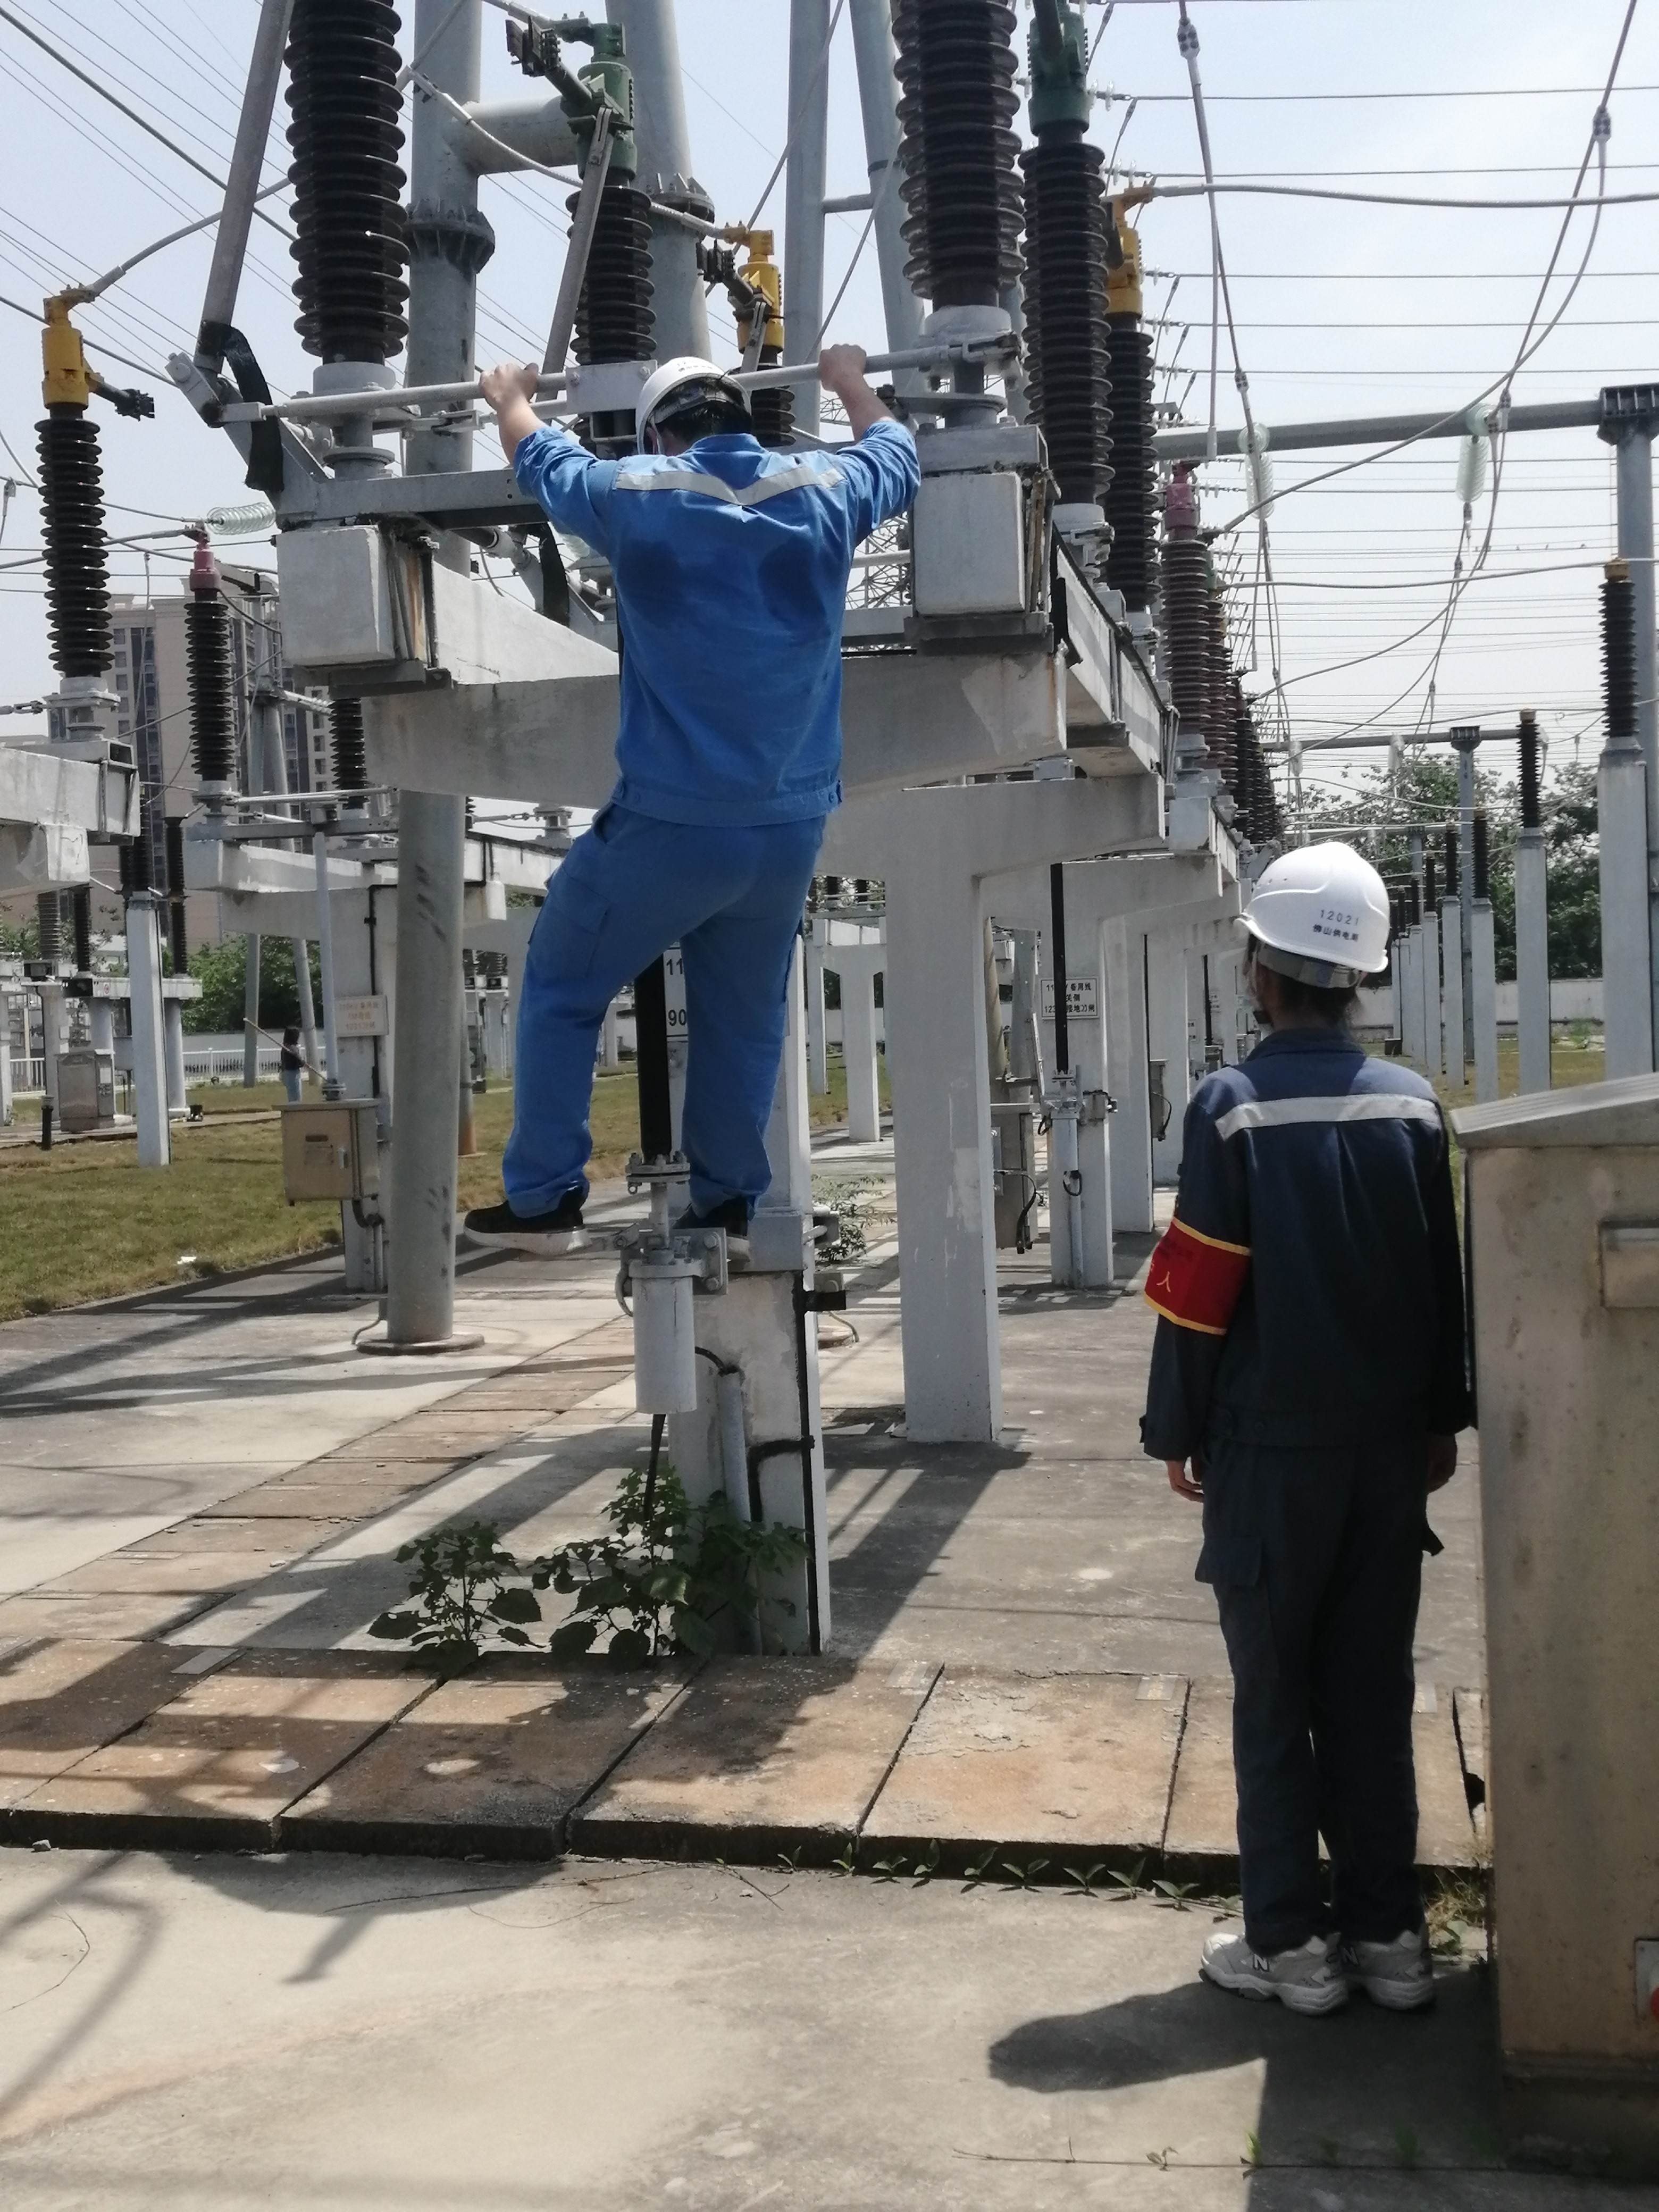downsuit: (504, 841, 835, 1217), (1185, 1463, 1446, 1930)
upsuit: (512, 428, 938, 822), (1140, 1021, 1466, 1456)
wrongtop: (467, 354, 572, 479), (807, 343, 920, 446)
